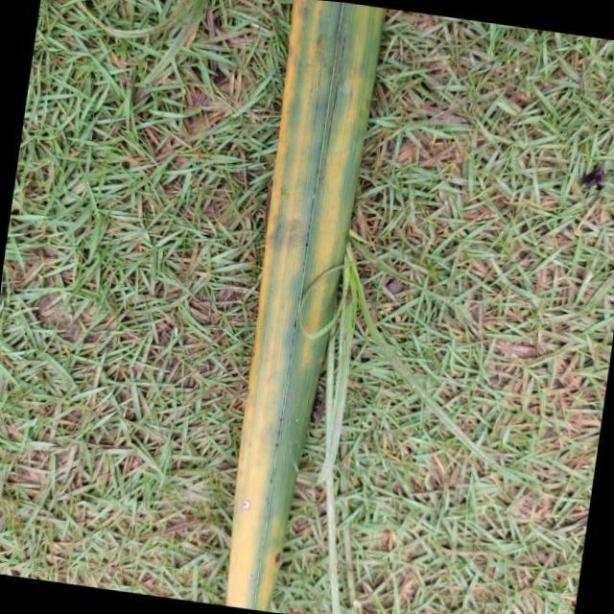Megnesium: (226, 0, 385, 614)
